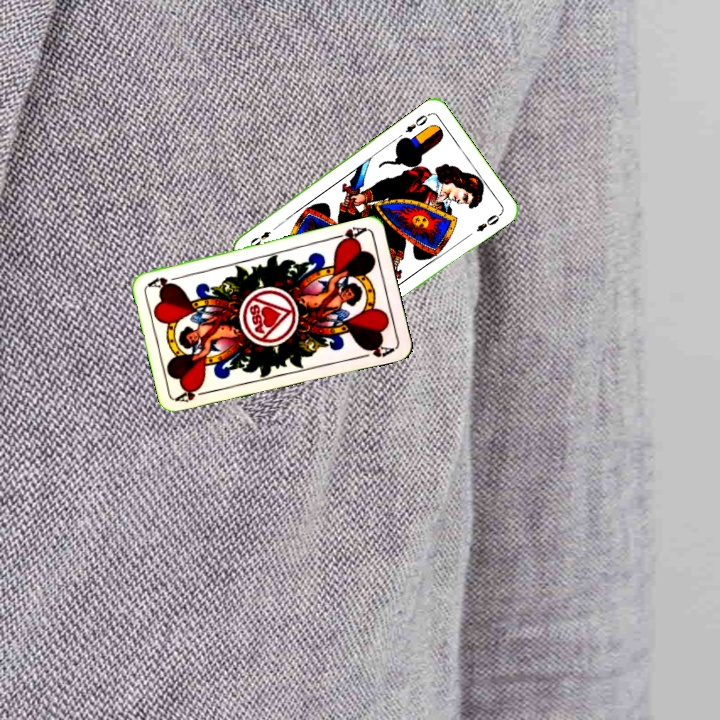EO: (401, 109, 433, 135)
HA: (328, 223, 368, 247), (173, 384, 213, 405)
